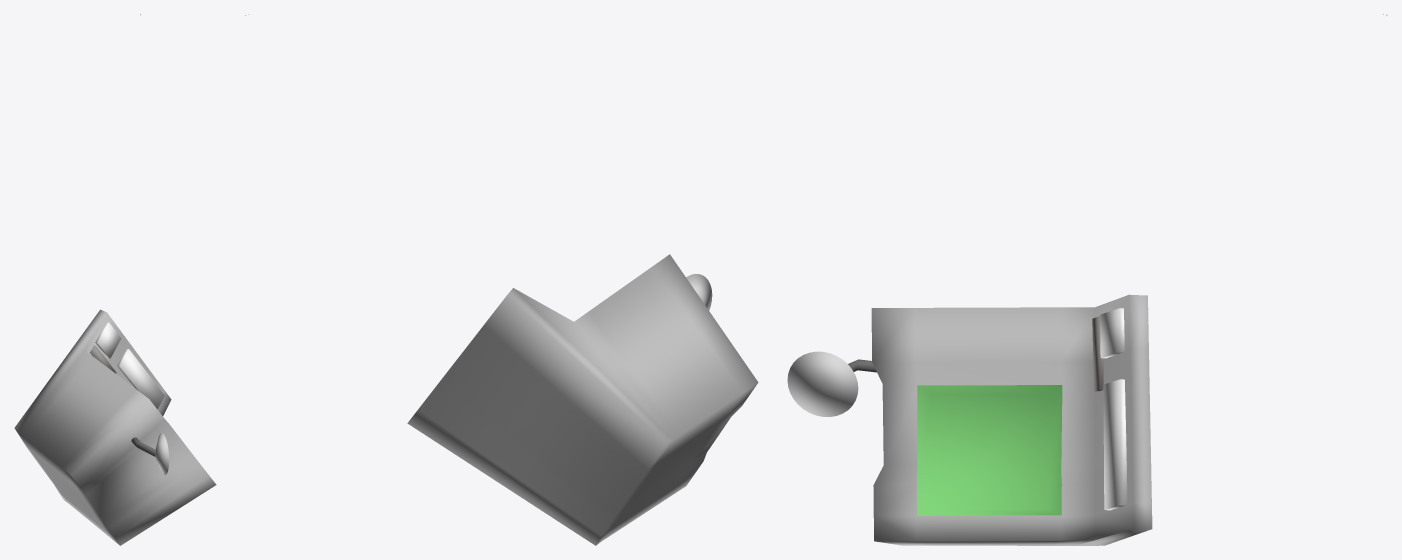
3 renders of one model, left to right at view 1: azimuth 30°, elevation 25°; view 2: azimuth 150°, elevation 25°; view 3: azimuth 270°, elevation 25°, orthographic. The views are drawn at different scales.
Parts seen in each view (by area): view 1: pc; view 2: pc; view 3: pc.
Part boxes in pixels (left/top/right/bottom): pc: left=14, top=14, right=216, bottom=545; pc: left=245, top=14, right=758, bottom=545; pc: left=787, top=14, right=1387, bottom=545.
Bounding box in the file's own units: 6085 × 10699 × 8735.
